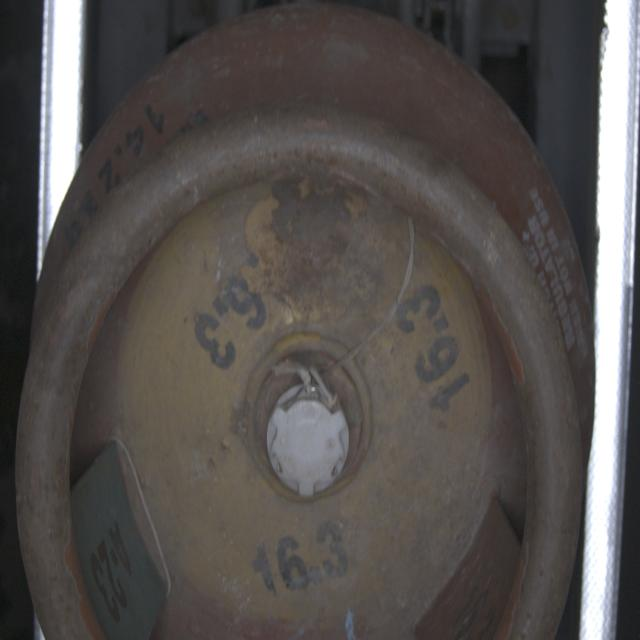Cap: (261, 380, 353, 504)
